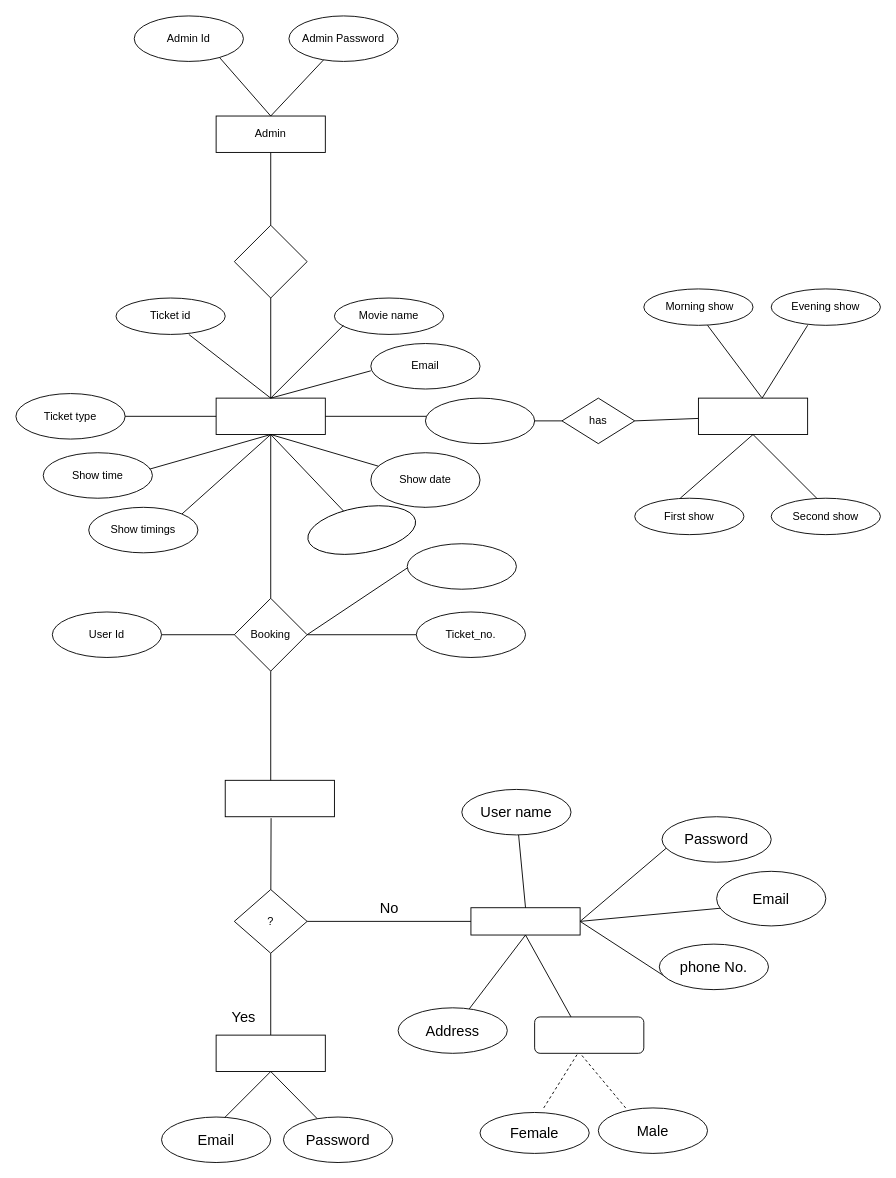
The diagram is 896 pixels wide and 1178 high, and some of its shapes have lost their labels. Here are the shapes that lost their labels. From the top down, the box of each, then its label:
(233, 224, 307, 298): sells
(215, 397, 325, 435): Tickets
(425, 397, 535, 444): Booking date
(698, 397, 808, 435): Show
(303, 497, 420, 562): No. of Tickets
(406, 543, 516, 589): Booking_date
(224, 779, 334, 817): User
(470, 907, 580, 935): Registration
(215, 1034, 325, 1072): Login
(534, 1016, 644, 1053): Gender
